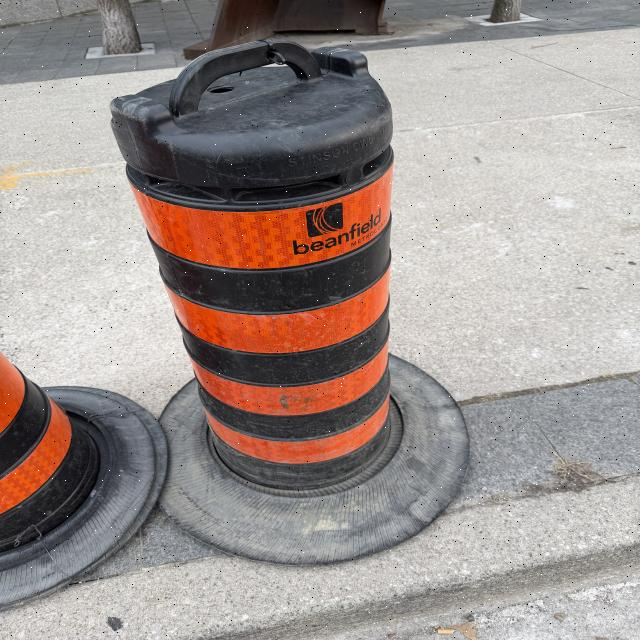Teraffic Barrel: (111, 40, 468, 562), (0, 354, 166, 608)
